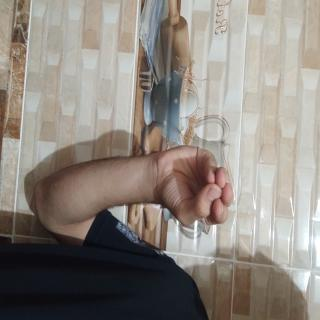HA: (104, 107, 176, 234)
